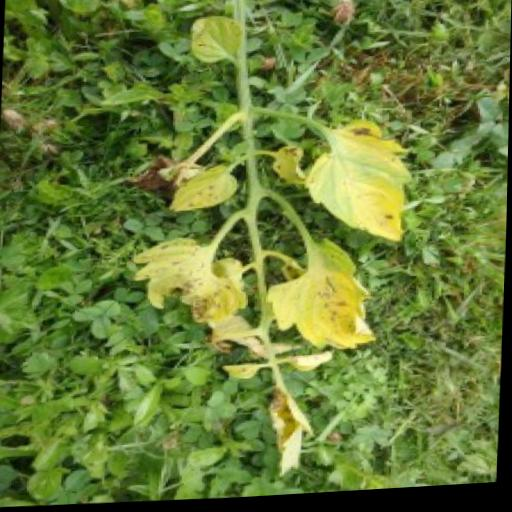Early Blight: (253, 241, 382, 365), (298, 120, 416, 252), (130, 234, 225, 315)
